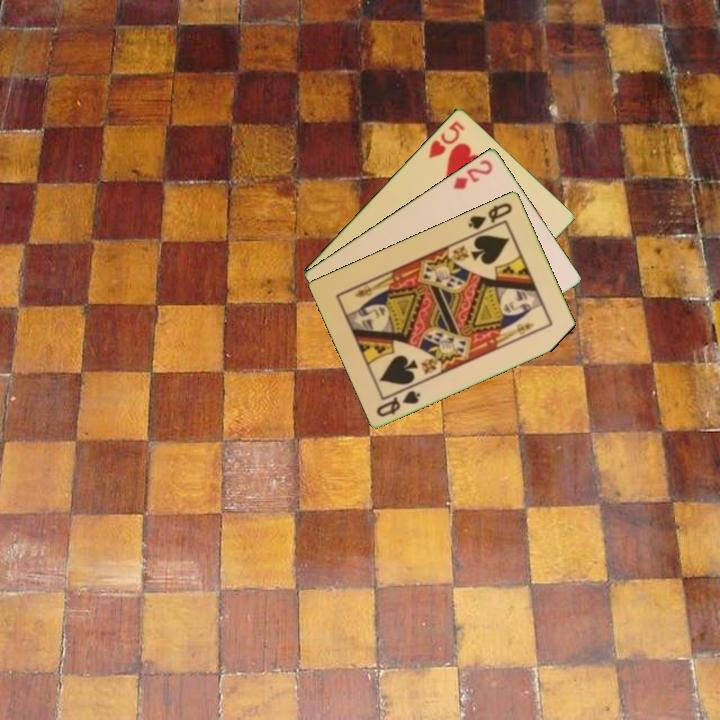2d: (450, 156, 496, 192)
5h: (424, 117, 468, 161)
Qs: (373, 386, 424, 420), (464, 199, 515, 232)
